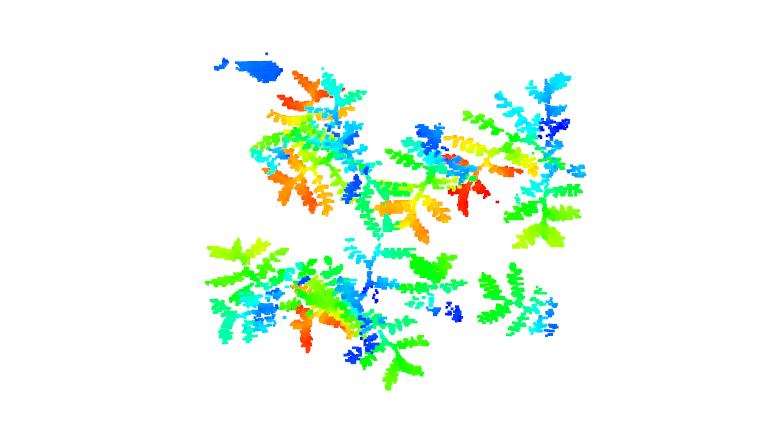chickpea: (446, 72, 592, 248), (307, 236, 429, 392), (243, 132, 401, 237), (202, 229, 311, 350), (378, 120, 468, 246), (259, 61, 369, 144), (472, 260, 564, 341), (406, 249, 472, 324)
